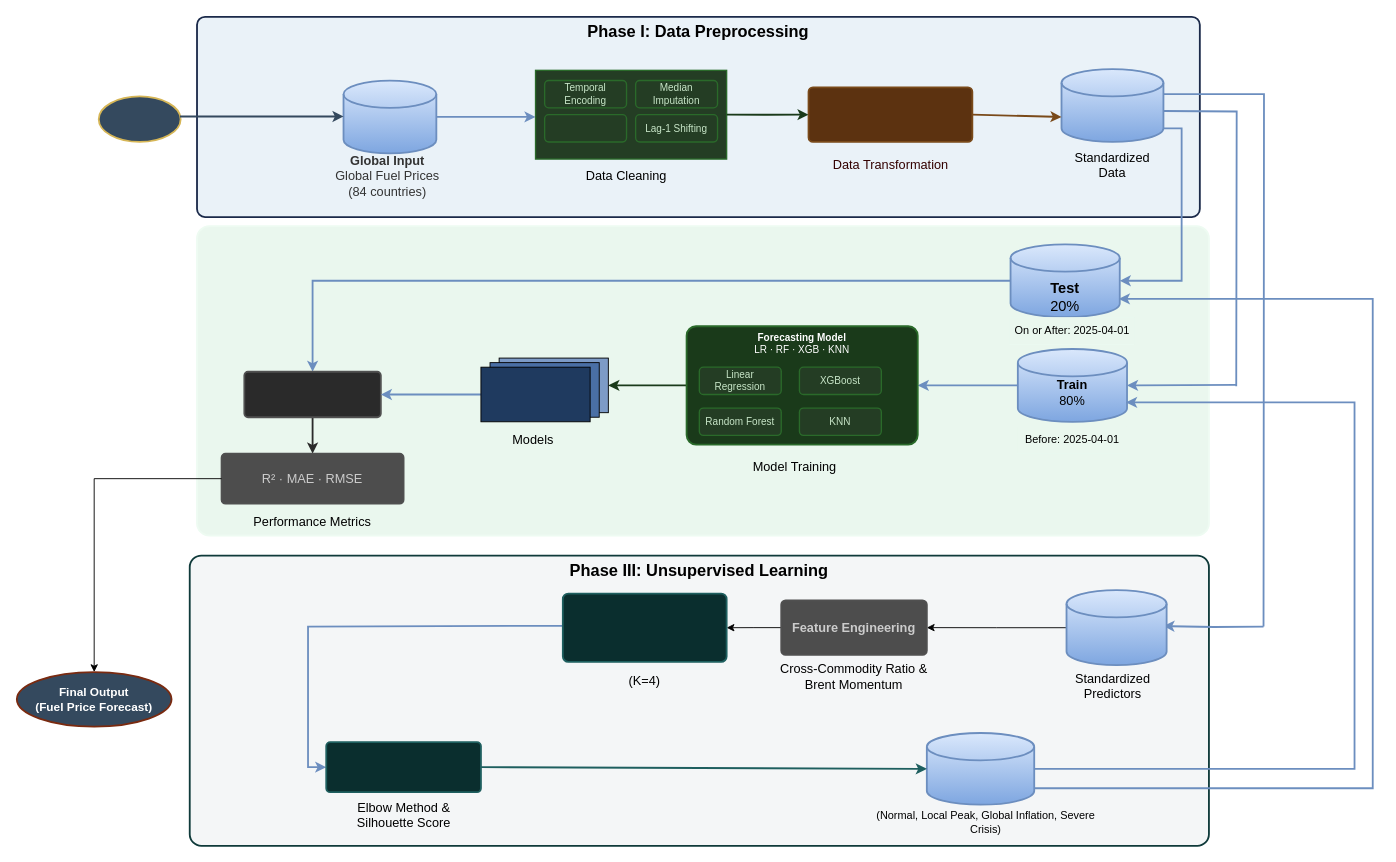
Image size: 1396x862. Some labels were removed from this diagram. The box of each missing label's shape, as (x1, y1, x2, y2) in pixels:
Chronological Split: (544, 114, 627, 142)
Clustering Validation: (325, 741, 481, 793)
EWS Regime Labels: (925, 732, 1035, 805)
K-Means Clustering: (561, 592, 727, 662)
Phase II: Supervised Learning: (196, 225, 1209, 536)
Standardization (Fitted on Train): (807, 86, 973, 142)
Start: (97, 95, 181, 142)
Testing & Cross Validation: (243, 370, 381, 418)
